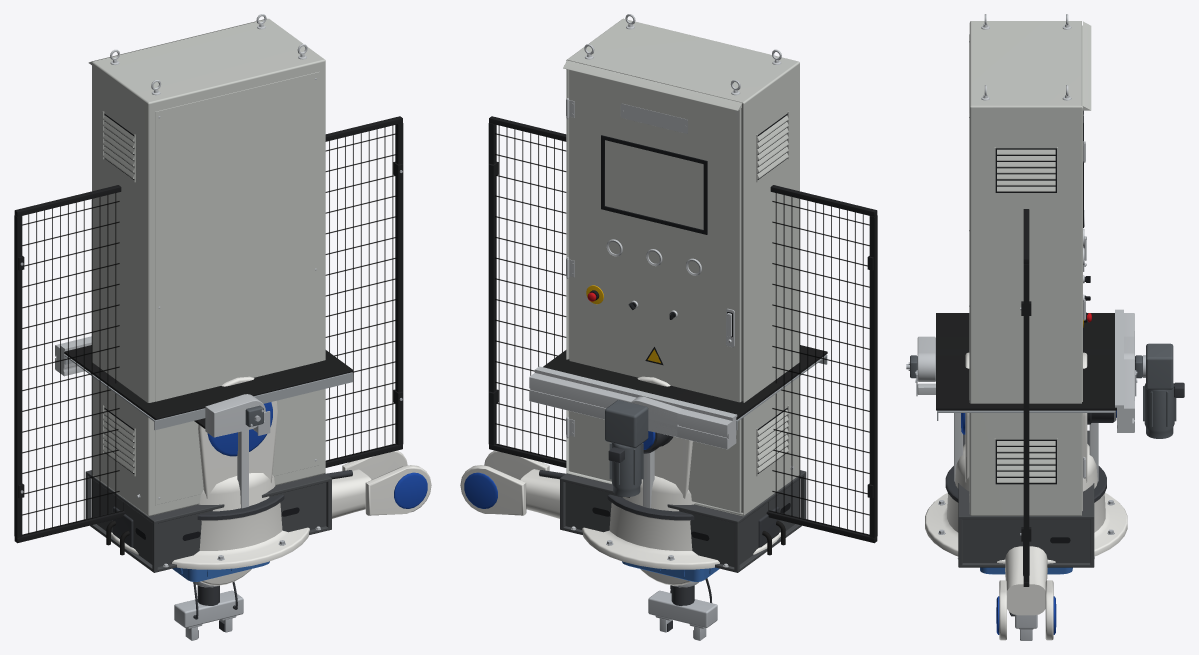
File: props.glb
3 renders of one model, left to right at view 1: azimuth 30°, elevation 25°; view 2: azimuth 150°, elevation 25°; view 3: azimuth 270°, elevation 25°, orthographic.
Parts seen in each view (by area): view 1: panel_mesh, fence_mesh, fence_panel, robot_base, conv_belt, robot_fore, robot_turret, conv_end, robot_wrist, conv_leg, conv_rail, tote; view 2: panel_mesh, fence_mesh, fence_panel, robot_base, conv_rail, robot_fore, conv_belt, conv_motor, robot_turret, robot_wrist, conv_end, tote (+1 smaller); view 3: panel_mesh, conv_belt, robot_base, robot_fore, conv_motor, conv_end, fence_panel, conv_rail, robot_turret, conv_leg, robot_wrist.
Boxes of the visible parts, bbox=[...] form: panel_mesh: bbox=[85, 14, 331, 572]; fence_mesh: bbox=[22, 125, 396, 535]; fence_panel: bbox=[14, 116, 403, 543]; robot_base: bbox=[111, 494, 309, 569]; conv_belt: bbox=[64, 345, 353, 430]; robot_fore: bbox=[326, 450, 431, 518]; robot_turret: bbox=[198, 376, 277, 511]; conv_end: bbox=[189, 386, 265, 437]; robot_wrist: bbox=[174, 581, 243, 640]; conv_leg: bbox=[237, 411, 270, 508]; conv_rail: bbox=[55, 336, 91, 376]; tote: bbox=[172, 561, 269, 581]; panel_mesh: bbox=[560, 14, 806, 572]; fence_mesh: bbox=[495, 125, 869, 535]; fence_panel: bbox=[488, 116, 877, 543]; robot_base: bbox=[582, 494, 780, 569]; conv_rail: bbox=[529, 366, 737, 449]; robot_fore: bbox=[460, 450, 565, 518]; conv_belt: bbox=[543, 345, 827, 430]; conv_motor: bbox=[605, 400, 648, 496]; robot_turret: bbox=[622, 376, 696, 511]; robot_wrist: bbox=[648, 578, 717, 640]; conv_end: bbox=[631, 385, 703, 437]; tote: bbox=[622, 561, 719, 581]; panel_mesh: bbox=[957, 14, 1094, 567]; conv_belt: bbox=[936, 313, 1116, 420]; robot_base: bbox=[925, 466, 1127, 563]; robot_fore: bbox=[996, 541, 1056, 640]; conv_motor: bbox=[1143, 343, 1184, 438]; conv_end: bbox=[906, 336, 1142, 381]; fence_panel: bbox=[1020, 209, 1031, 586]; conv_rail: bbox=[1115, 309, 1134, 432]; robot_turret: bbox=[955, 352, 1116, 491]; conv_leg: bbox=[915, 370, 1137, 481]; robot_wrist: bbox=[1009, 612, 1037, 640].
Size of the model in its own units: 2.03 by 2.84 by 1.23.
19 materials, 1 textured.
